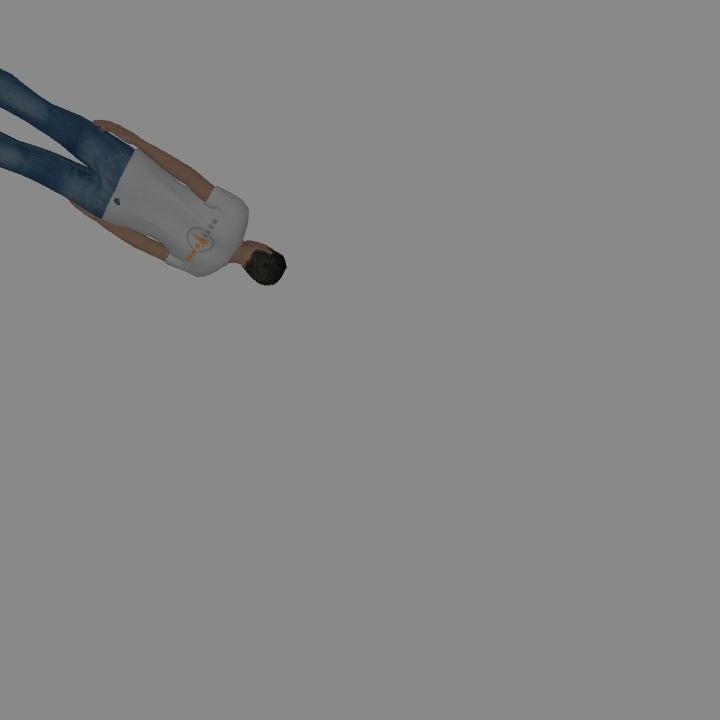victim: (1, 67, 287, 285)
